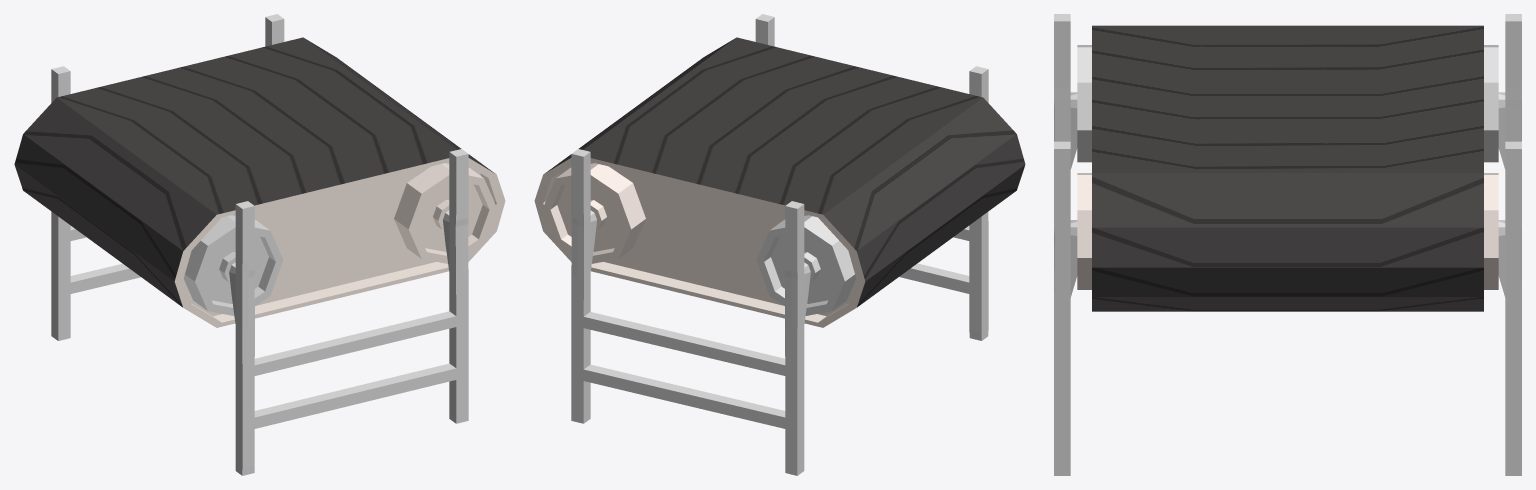
Rendered from Conveyor.fbx.
The picture shows the model from 3 angles, left to right: view 1: azimuth 30°, elevation 25°; view 2: azimuth 150°, elevation 25°; view 3: azimuth 270°, elevation 25°; orthographic projection. The views are drawn at different scales.
Visible parts, largest first — view 1: Conveyor, Axel2, Axel1; view 2: Conveyor, Axel2, Axel1; view 3: Conveyor, Axel1, Axel2.
Boxes of the visible parts, x1,y1,x2,y2 form: Conveyor: (14, 14, 505, 475); Axel2: (394, 163, 496, 263); Axel1: (183, 215, 283, 315); Conveyor: (534, 14, 1025, 475); Axel2: (543, 163, 645, 263); Axel1: (756, 215, 856, 315); Conveyor: (1054, 14, 1521, 475); Axel1: (1077, 45, 1498, 162); Axel2: (1077, 173, 1498, 289).
Bounding box in the file's own units: 300 × 231 × 300.
